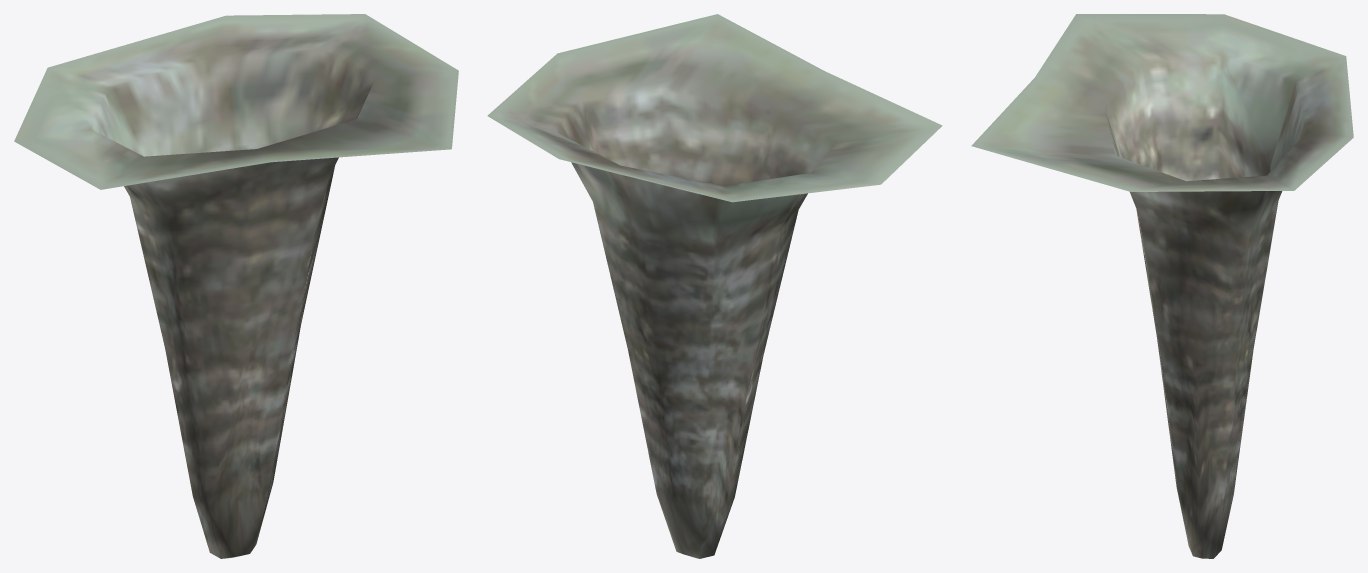
File: TROLLHOLE02_PS-MAINSTALAG40.fbx
3 renders of one model, left to right at view 1: azimuth 30°, elevation 25°; view 2: azimuth 150°, elevation 25°; view 3: azimuth 270°, elevation 25°, orthographic. The views are drawn at different scales.
Visible parts, largest first — view 1: TROLLHOLE02_PS-MAINSTALAG40; view 2: TROLLHOLE02_PS-MAINSTALAG40; view 3: TROLLHOLE02_PS-MAINSTALAG40.
Part boxes in pixels (<box>): TROLLHOLE02_PS-MAINSTALAG40: <box>14,14,458,558</box>; TROLLHOLE02_PS-MAINSTALAG40: <box>487,14,942,558</box>; TROLLHOLE02_PS-MAINSTALAG40: <box>971,14,1353,558</box>.
Bounding box in the file's own units: 22476 × 25630 × 19455.
1 material, 1 textured.
